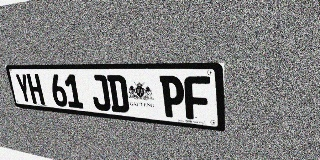1: (63, 74, 84, 109)
6: (48, 74, 69, 107)
D: (107, 75, 130, 113)
F: (184, 76, 211, 121)
H: (26, 74, 45, 105)
J: (89, 75, 111, 111)
P: (159, 76, 185, 119)
Y: (14, 74, 33, 104)
